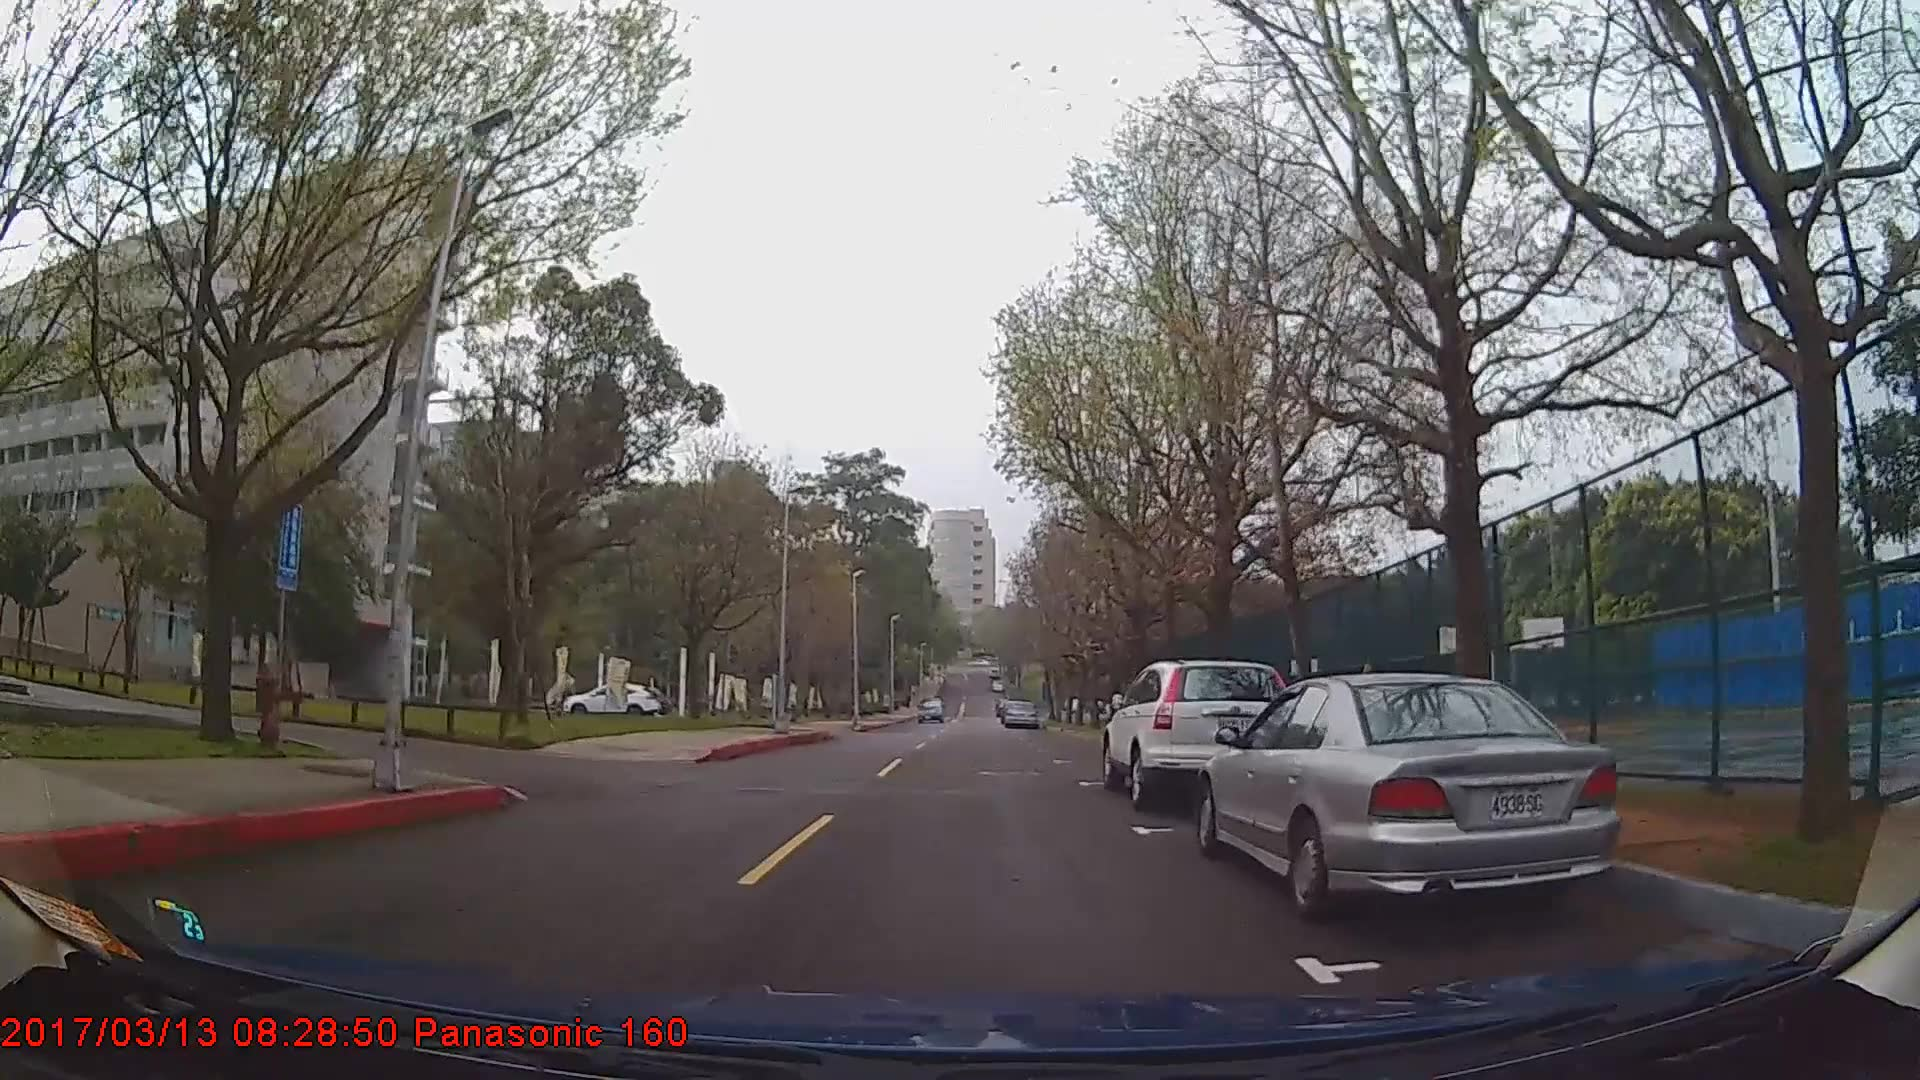vehicle: (1197, 673, 1622, 919), (1100, 661, 1299, 808), (566, 679, 663, 717), (1000, 698, 1039, 731), (916, 694, 943, 723)
